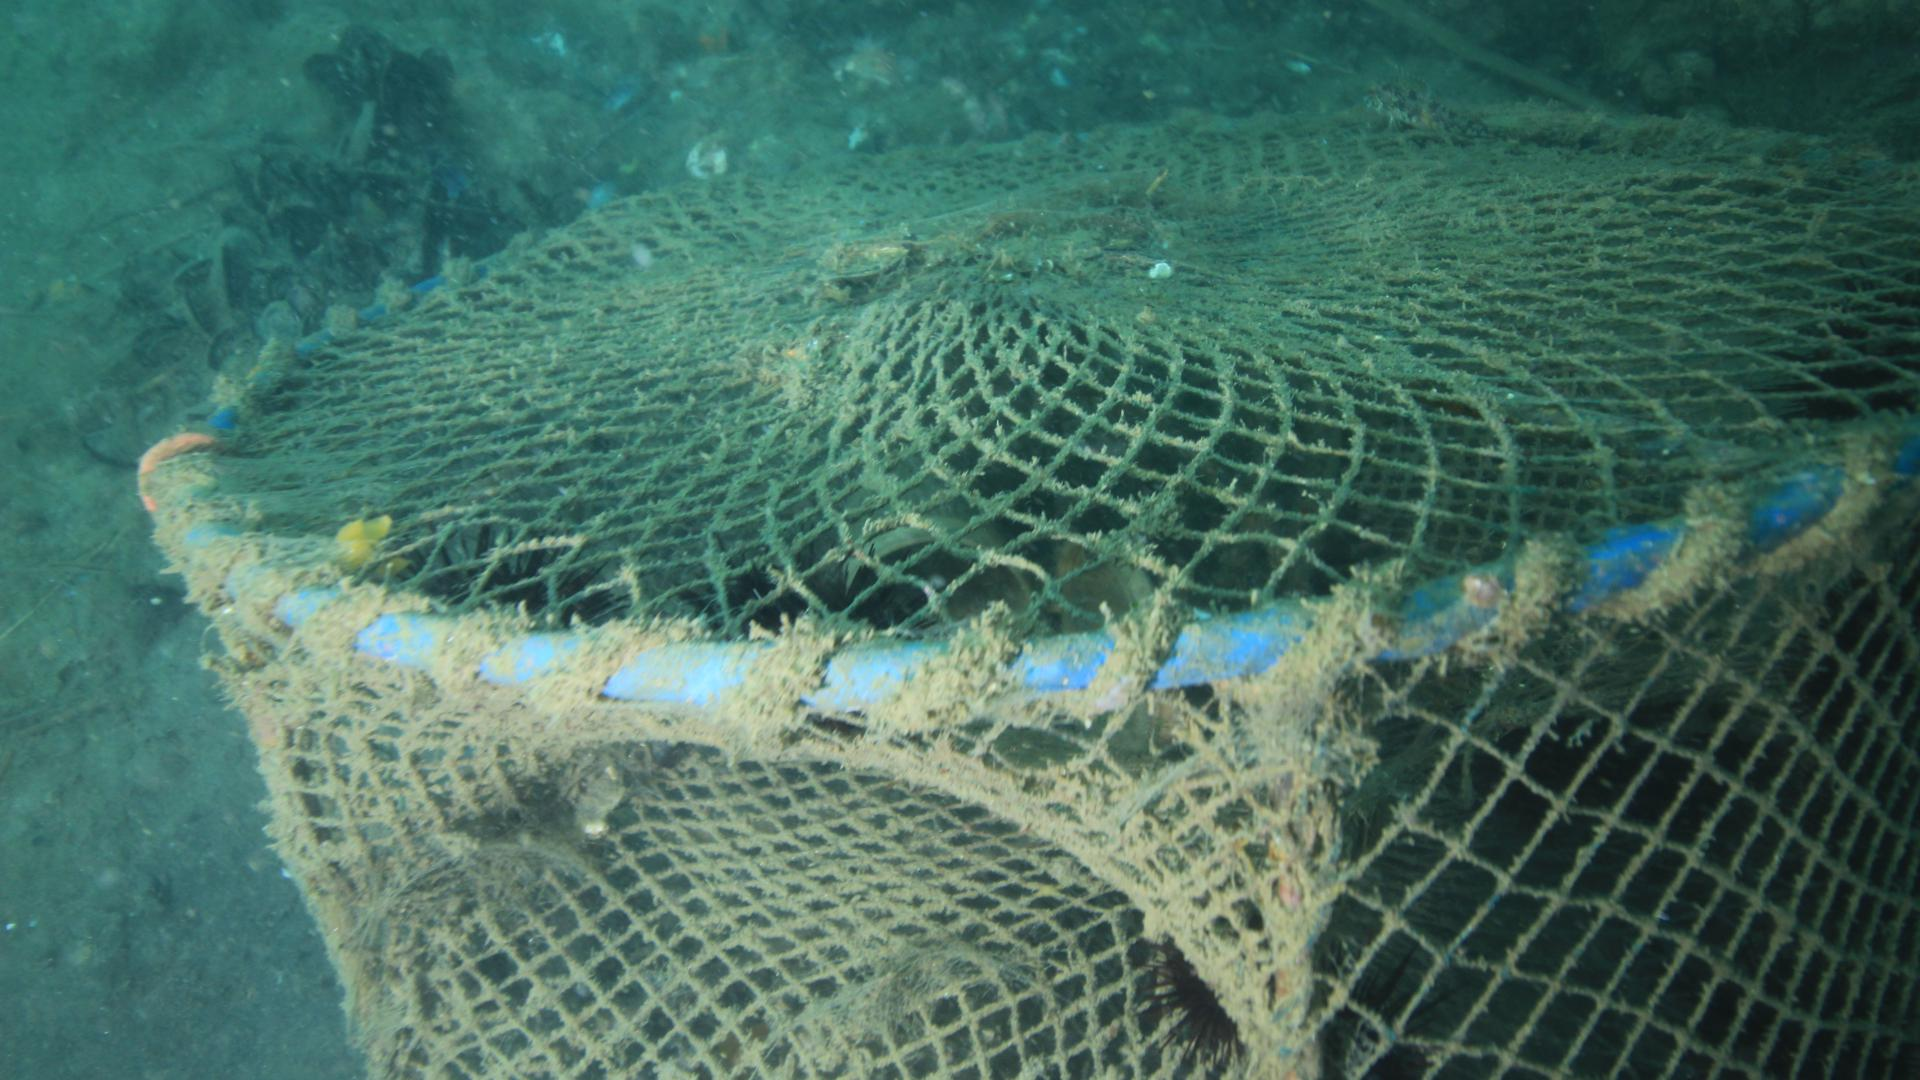circular fish trap: (138, 98, 1920, 1080)
